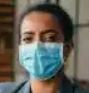with_facemask: (15, 43, 69, 83)
